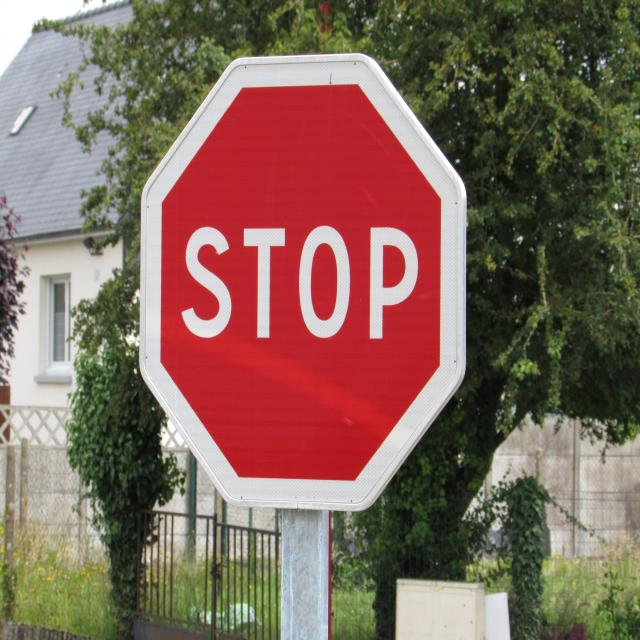Traffic sign: (140, 50, 472, 519)
